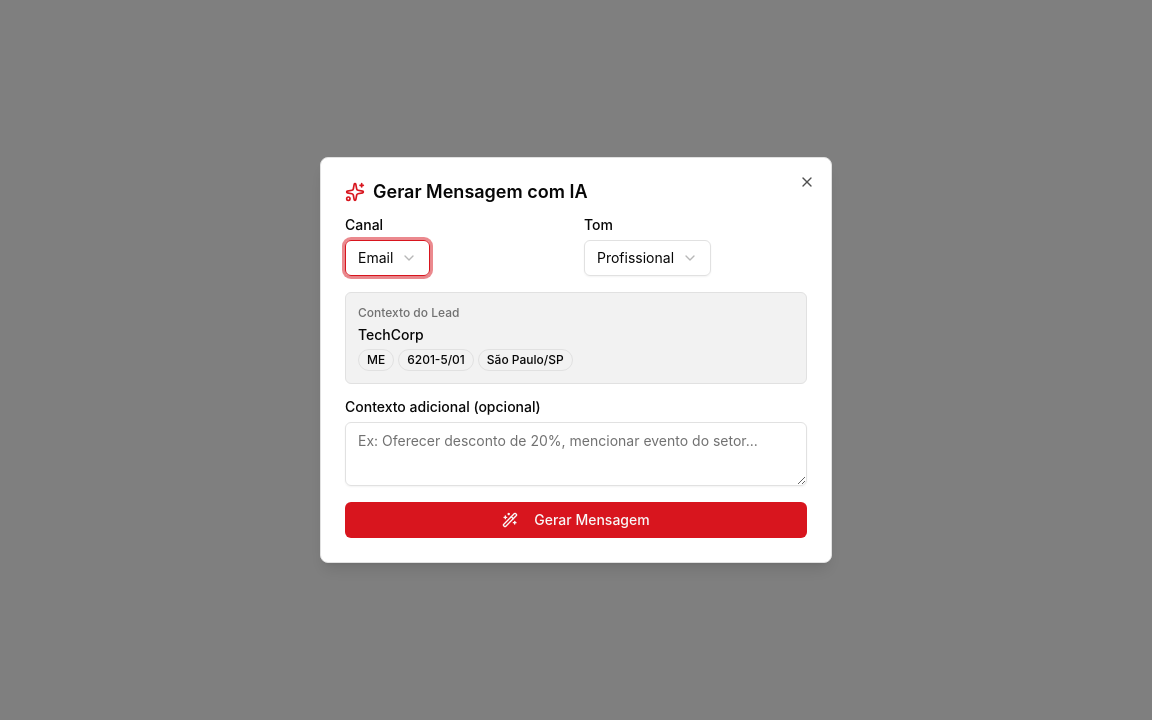
Test case: AIMessageGenerator › should show generated message after successful generation
Click the button "Gerar Mensagem" at (576, 520), box [345, 502, 807, 538]
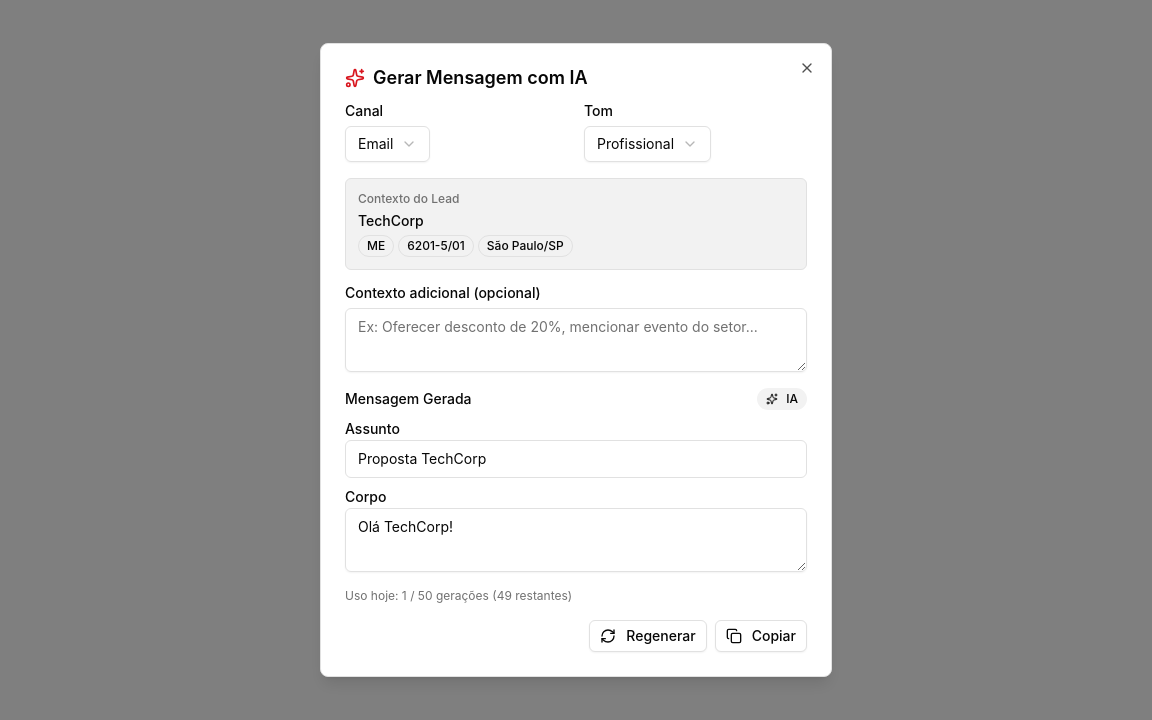
Result: the text "Mensagem Gerada" is shown at [345, 389, 472, 409]
Result: the field showing "Proposta TechCorp" is shown at [345, 440, 807, 478]
Result: the text box showing "Olá TechCorp!" is shown at [345, 508, 807, 572]
